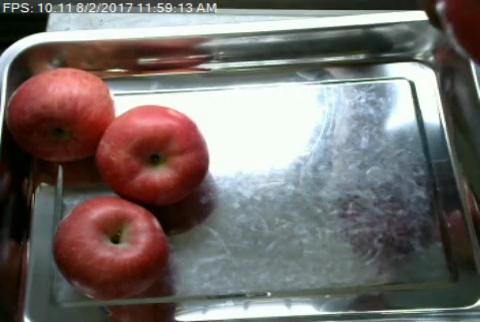apple: (53, 196, 170, 300), (97, 104, 209, 206), (6, 67, 112, 160)
